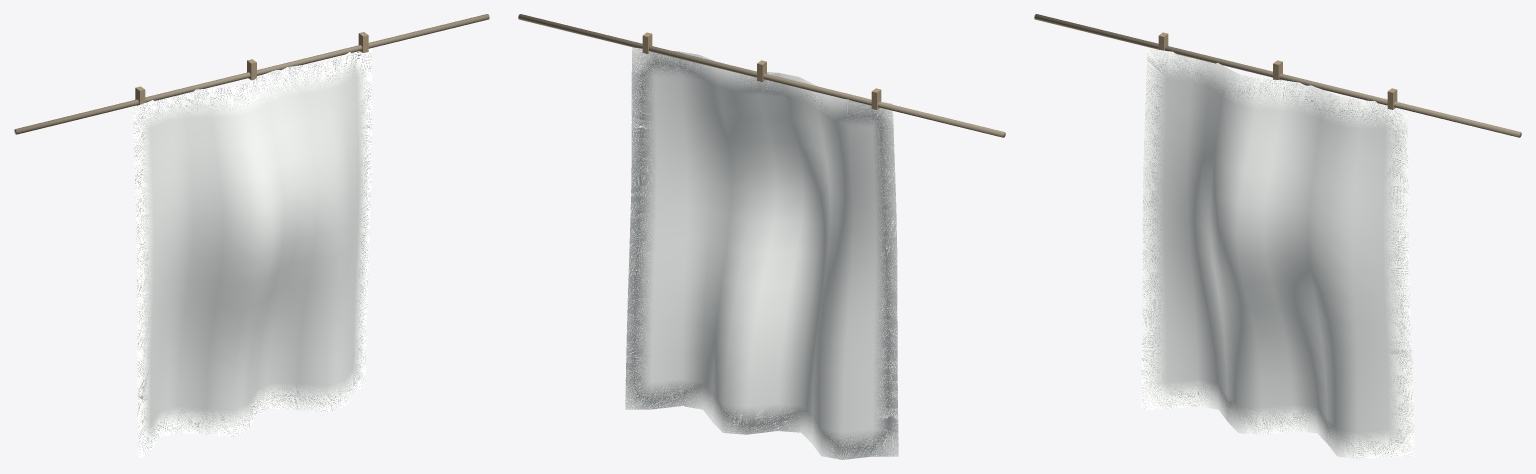
Rendered from anom_hanging_sheet.glb.
3 renders of one model, left to right at view 1: azimuth 30°, elevation 25°; view 2: azimuth 150°, elevation 25°; view 3: azimuth 330°, elevation 25°, orthographic. The views are drawn at different scales.
Parts seen in each view (by area): view 1: DrapedSheetMesh, Clothesline; view 2: DrapedSheetMesh, Clothesline; view 3: DrapedSheetMesh, Clothesline.
Part boxes in pixels (x1,y1,x2,y2): DrapedSheetMesh: (132, 48, 371, 459); Clothesline: (14, 14, 489, 134); DrapedSheetMesh: (625, 47, 898, 459); Clothesline: (518, 14, 1005, 137); DrapedSheetMesh: (1141, 48, 1414, 459); Clothesline: (1034, 14, 1521, 137).
Size of the model in its own units: 2.2 by 1.61 by 0.3244.
